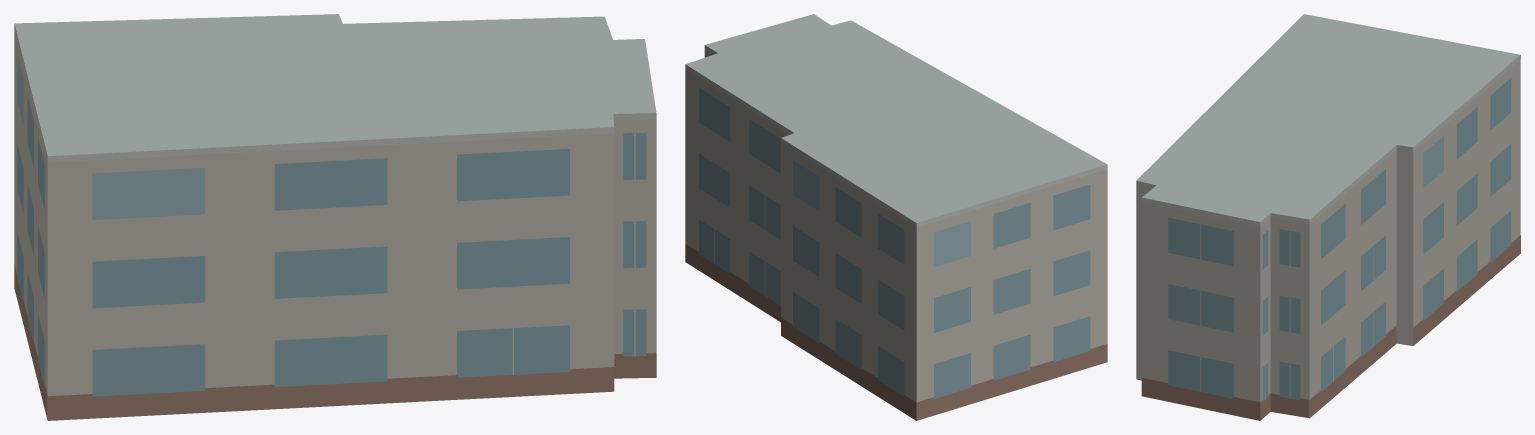
The model's file is survey-upis-32973044.glb.
The picture shows the model from 3 angles, left to right: view 1: azimuth 30°, elevation 25°; view 2: azimuth 150°, elevation 25°; view 3: azimuth 270°, elevation 25°; orthographic projection. The views are drawn at different scales.
Visible parts, largest first — view 1: survey-upis-32973044.tmp; view 2: survey-upis-32973044.tmp; view 3: survey-upis-32973044.tmp.
Boxes of the visible parts, x1=… form: survey-upis-32973044.tmp: x1=14, y1=14, x2=656, y2=420; survey-upis-32973044.tmp: x1=685, y1=14, x2=1107, y2=420; survey-upis-32973044.tmp: x1=1136, y1=14, x2=1520, y2=420.
Bounding box in the file's own units: 23.15 × 10.3 × 18.08.
